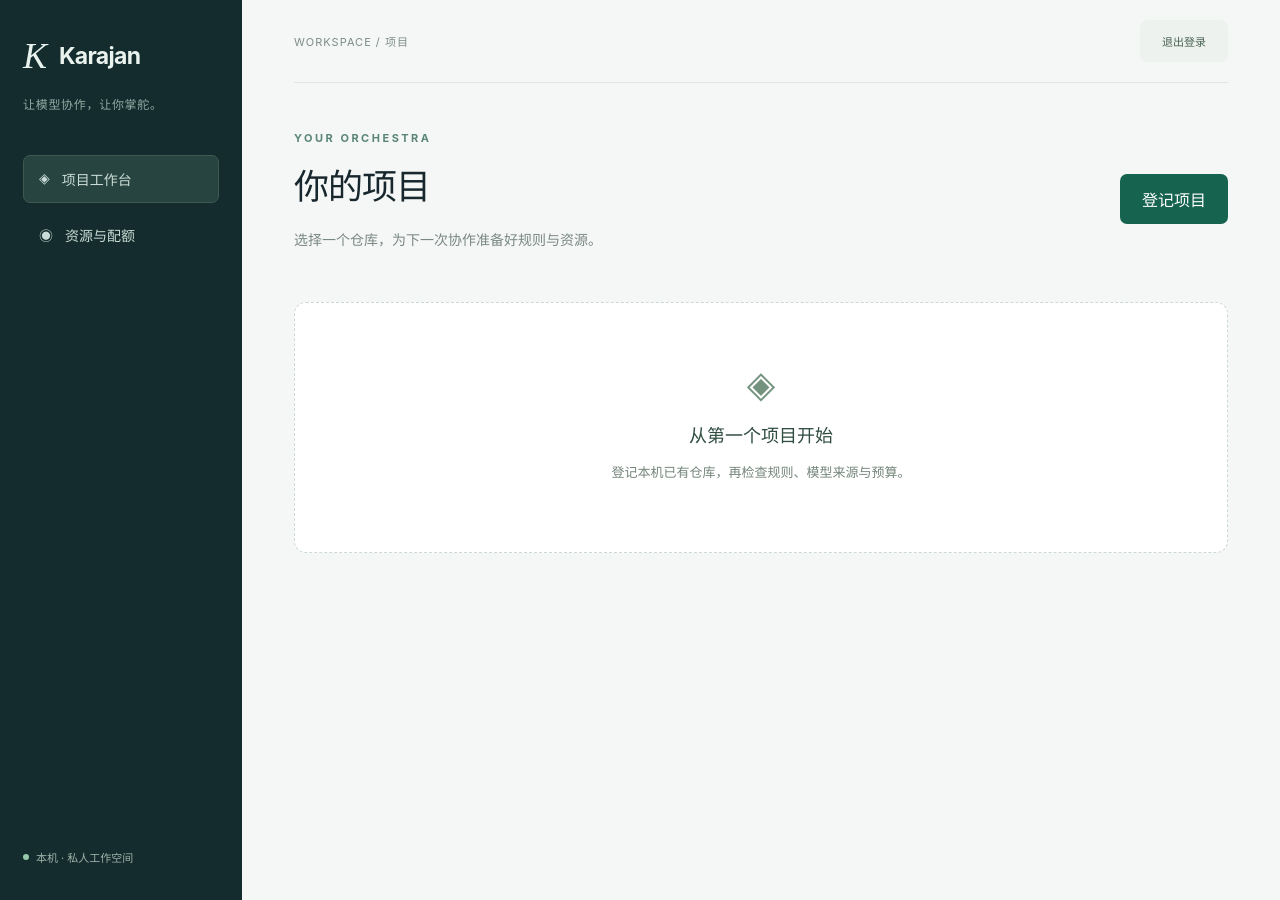
Scenario: registers a repository with CSRF and reuses the command identity after an unknown response
Click the button "登记项目" at (1174, 199), box [1120,174,1228,224]
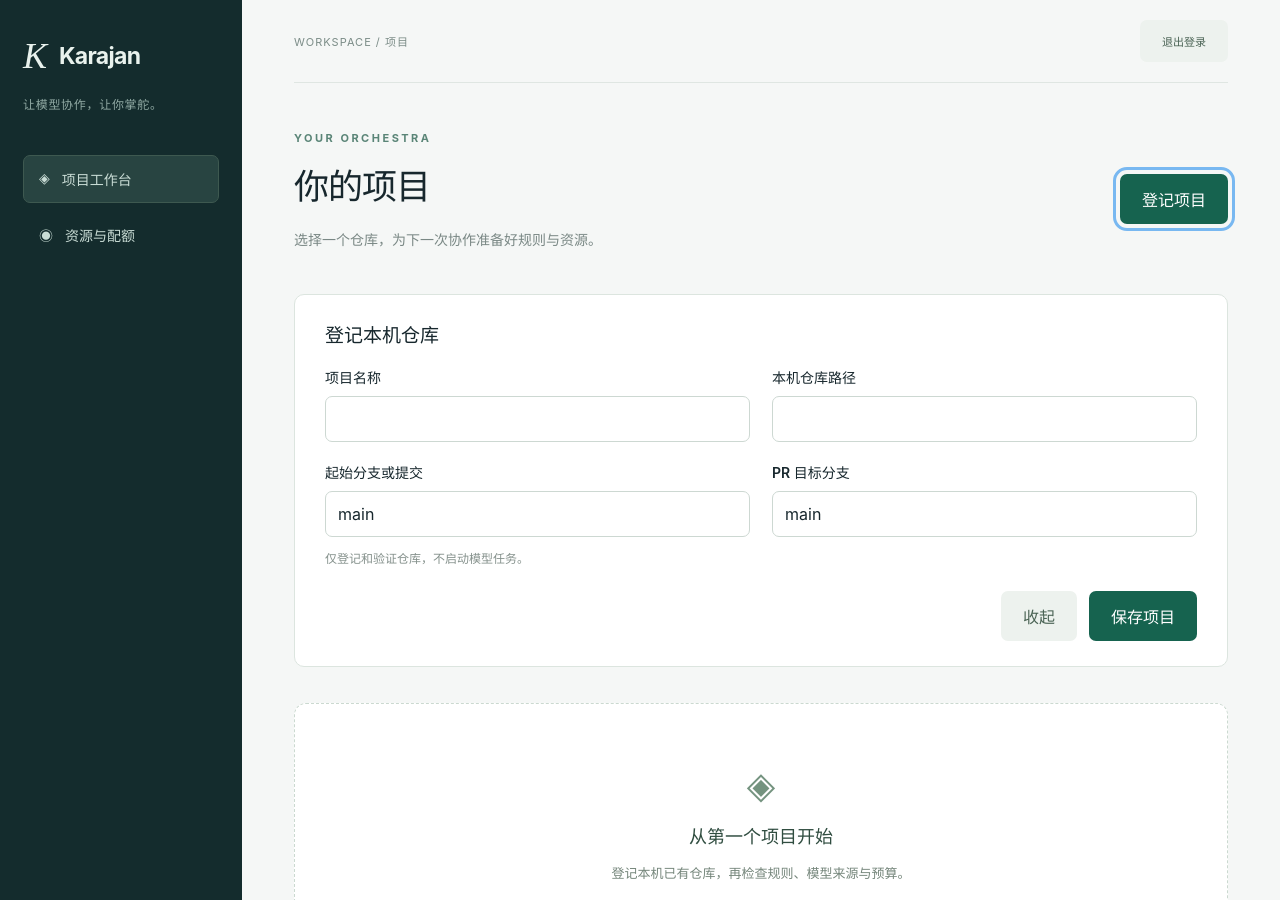
Type "我的仓库" into the field labelled "项目名称" at (538, 419), box [325,396,750,442]
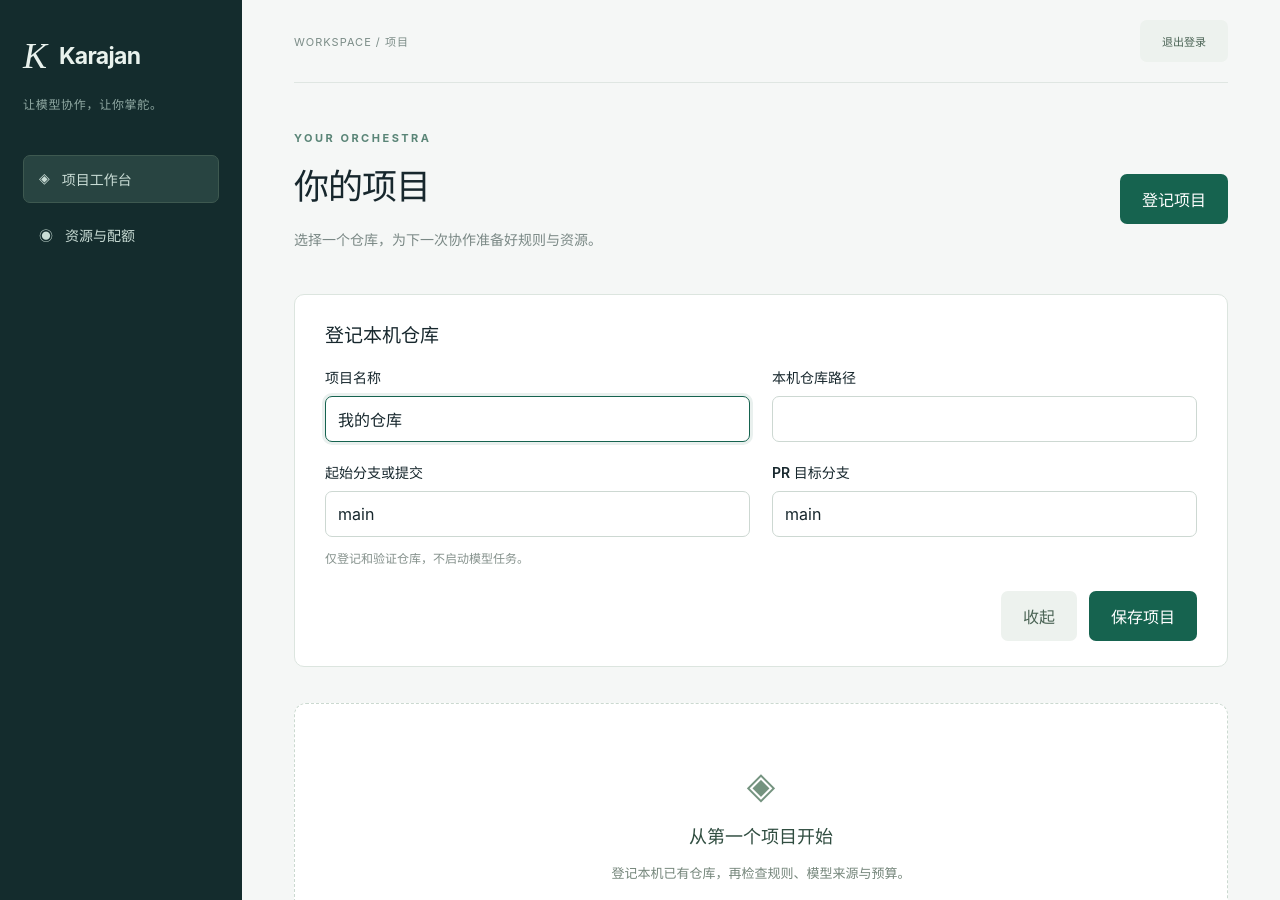
Type "/allowed/repo" into the field labelled "本机仓库路径" at (984, 419), box [772,396,1197,442]
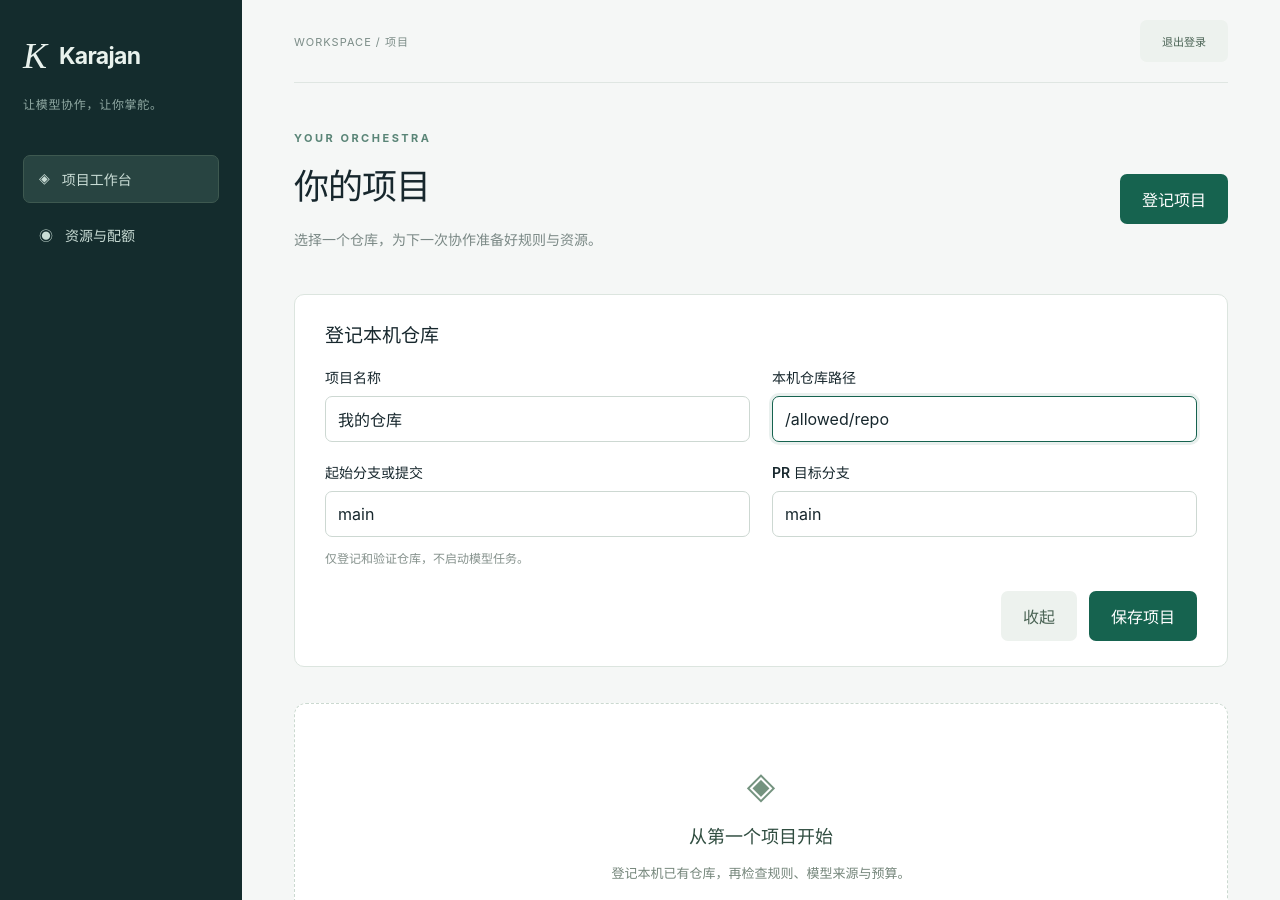
Click the button "保存项目" at (1143, 616), box [1089,591,1197,641]
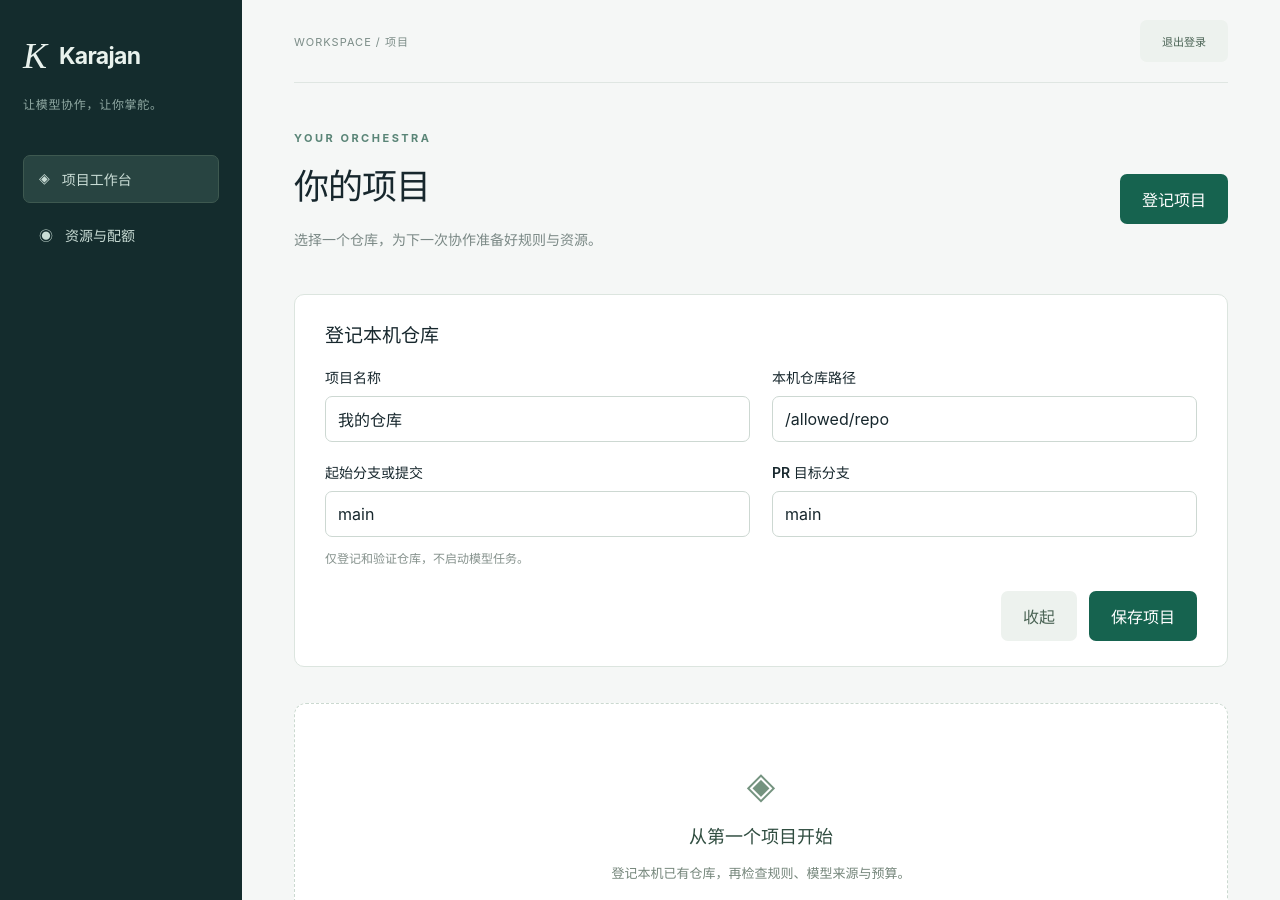
Click the button "保存项目" at (1143, 616), box [1089,591,1197,641]
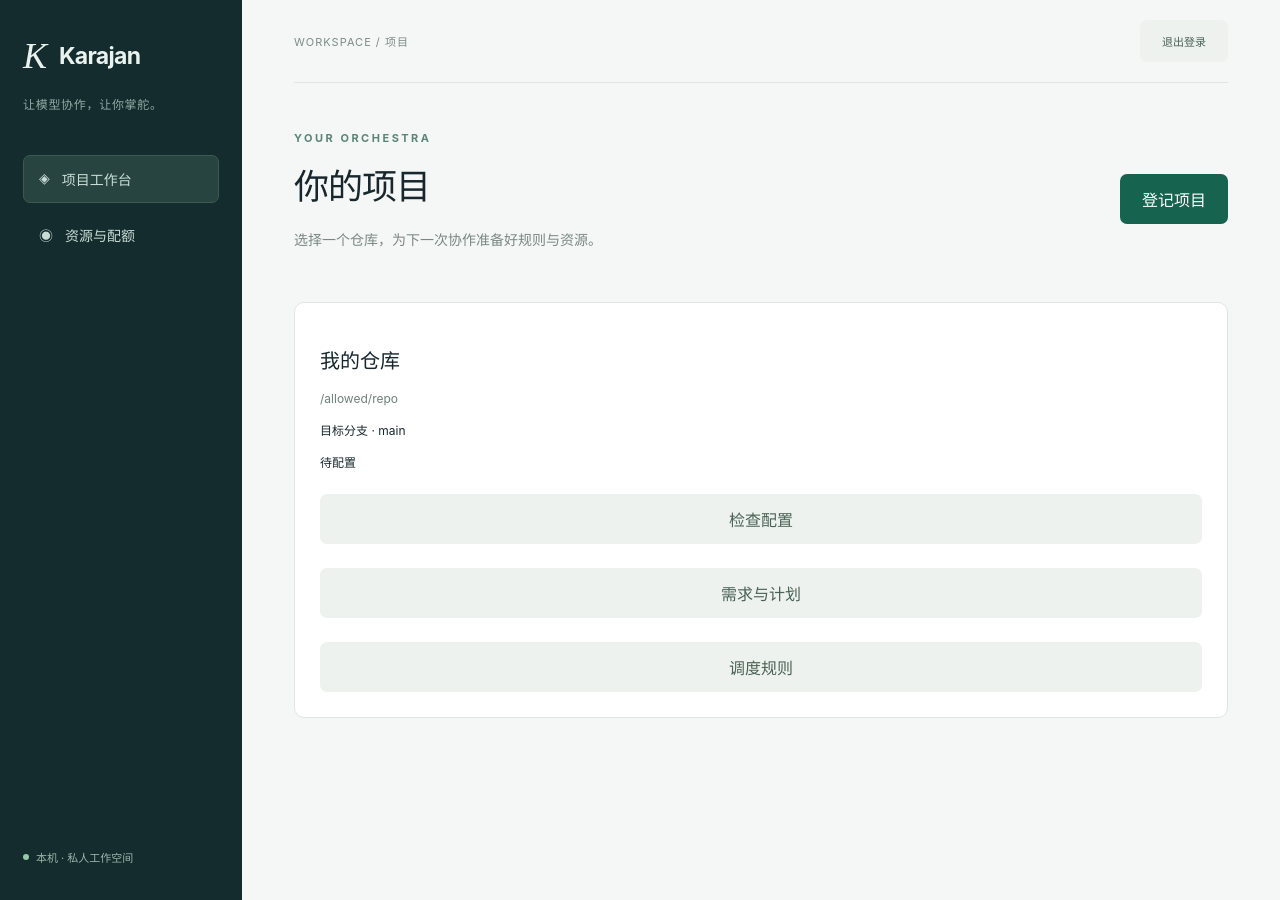
Result: the heading "我的仓库" is shown at [320,349,400,373]
Click the button "需求与计划" at (761, 593), box [320,568,1202,618]
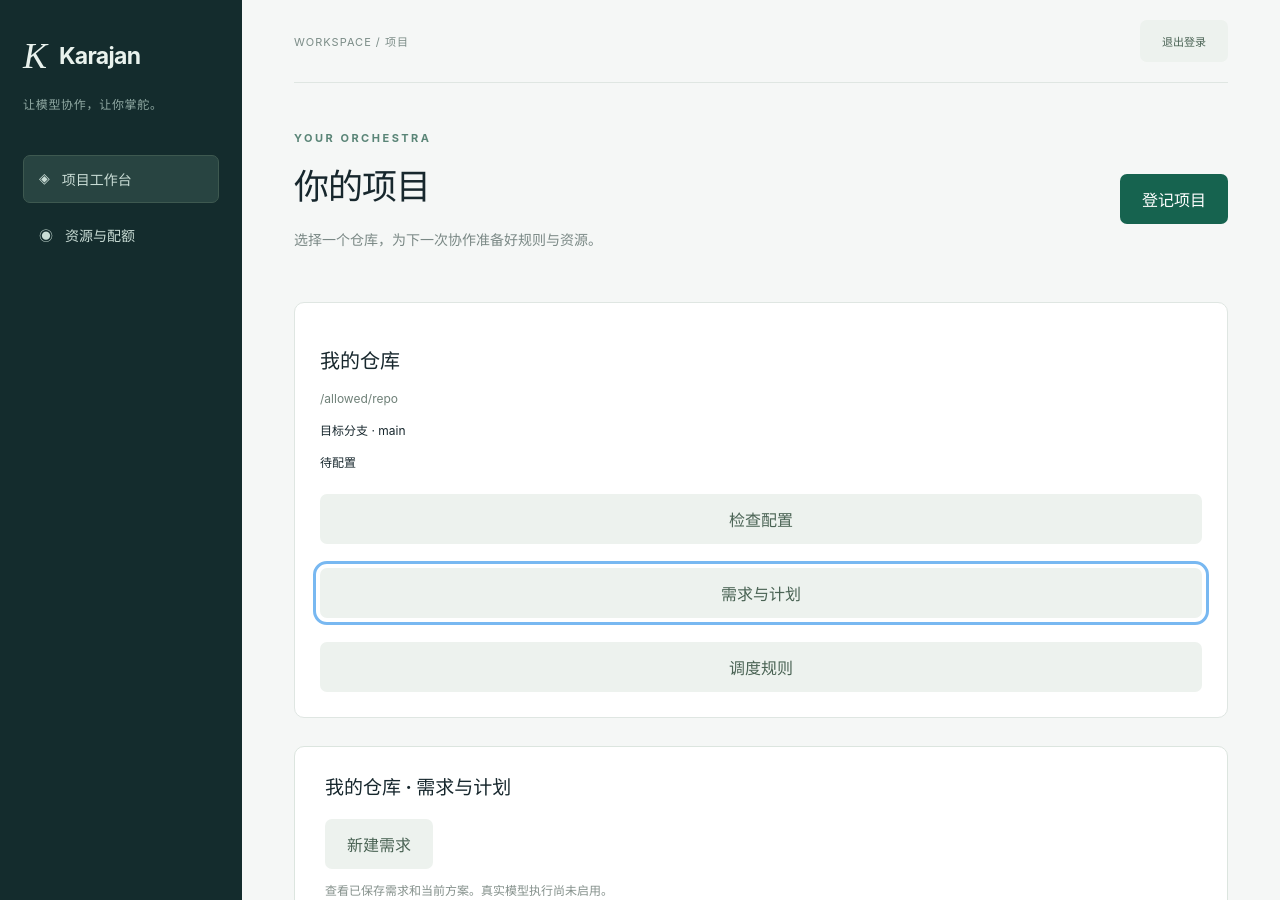
Result: the heading "我的仓库 · 需求与计划" is shown at [325,776,511,799]
